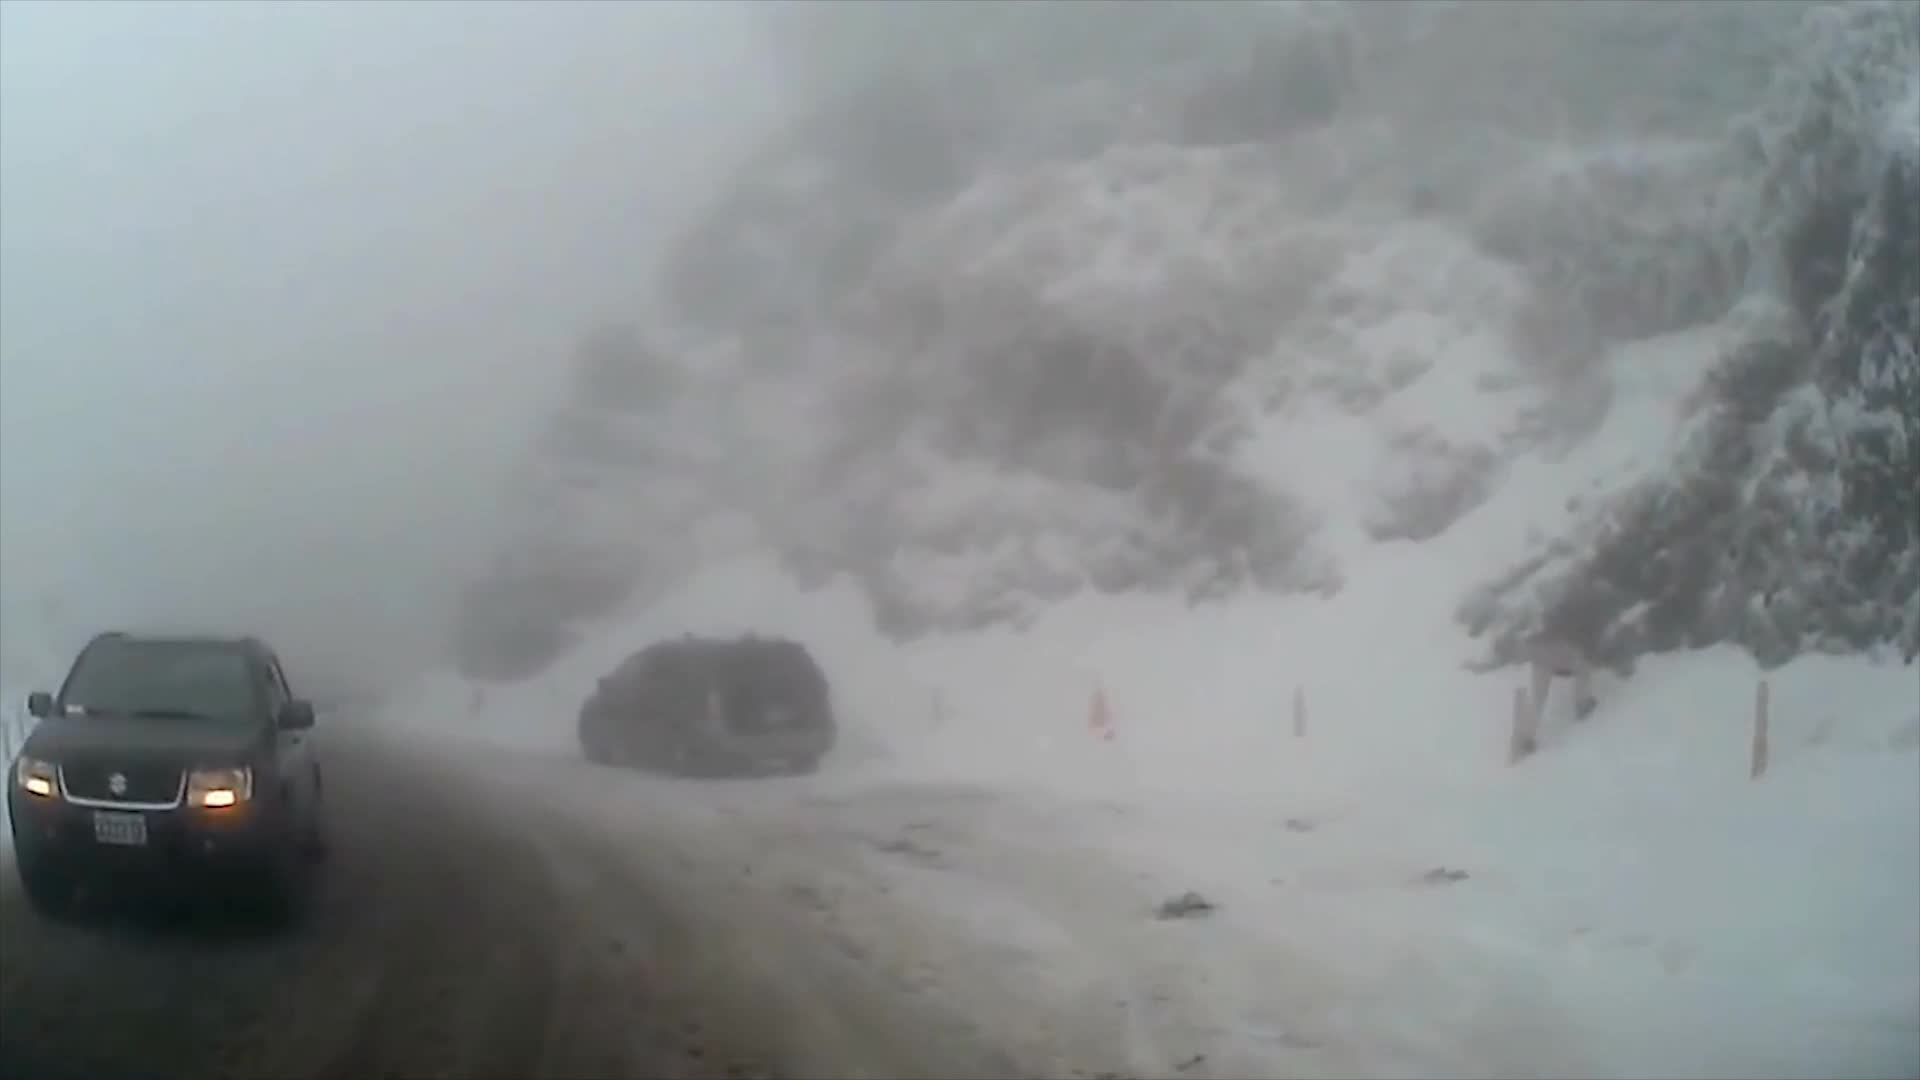vehicle: (3, 626, 324, 936), (576, 640, 833, 783)
